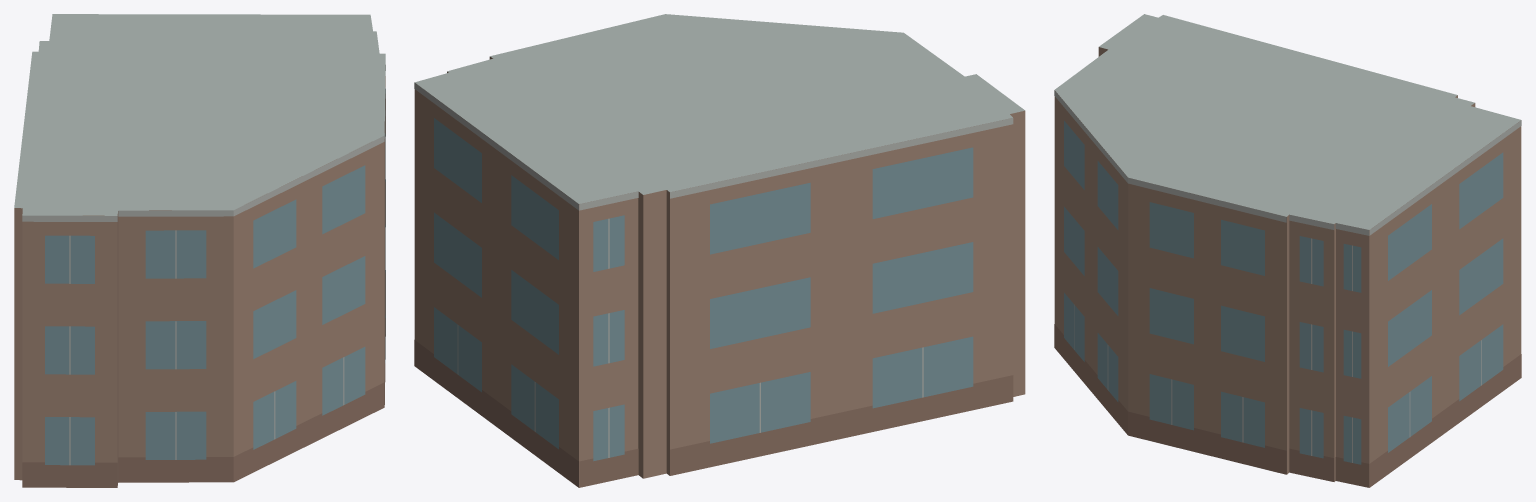
File: survey-upis-32672545.glb
3 renders of one model, left to right at view 1: azimuth 30°, elevation 25°; view 2: azimuth 150°, elevation 25°; view 3: azimuth 270°, elevation 25°, orthographic. The views are drawn at different scales.
Visible parts, largest first — view 1: survey-upis-32672545.tmp; view 2: survey-upis-32672545.tmp; view 3: survey-upis-32672545.tmp.
Boxes of the visible parts, x1,y1,x2,y2 form: survey-upis-32672545.tmp: (14,14,385,487); survey-upis-32672545.tmp: (414,14,1025,487); survey-upis-32672545.tmp: (1054,14,1521,487).
Size of the model in its own units: 19.05 by 10.6 by 17.41.
